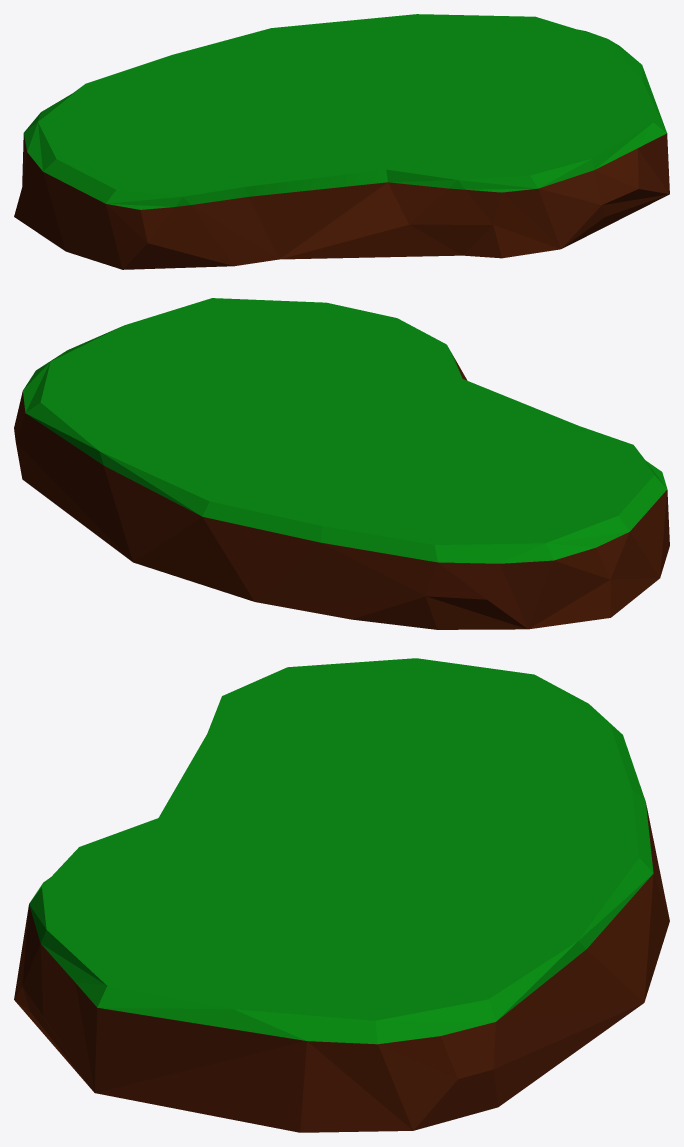
The model's file is ElevatedGround_2.fbx.
3 renders of one model, top to bottom at view 1: azimuth 30°, elevation 25°; view 2: azimuth 150°, elevation 25°; view 3: azimuth 270°, elevation 25°, orthographic. The views are drawn at different scales.
Parts seen in each view (by area): view 1: ElevatedGround_2; view 2: ElevatedGround_2; view 3: ElevatedGround_2.
Boxes of the visible parts, left/top/right/bottom form: ElevatedGround_2: left=14, top=14, right=669, bottom=269; ElevatedGround_2: left=14, top=298, right=669, bottom=629; ElevatedGround_2: left=14, top=658, right=669, bottom=1132.
Bounding box in the file's own units: 2086 × 248 × 1492.
